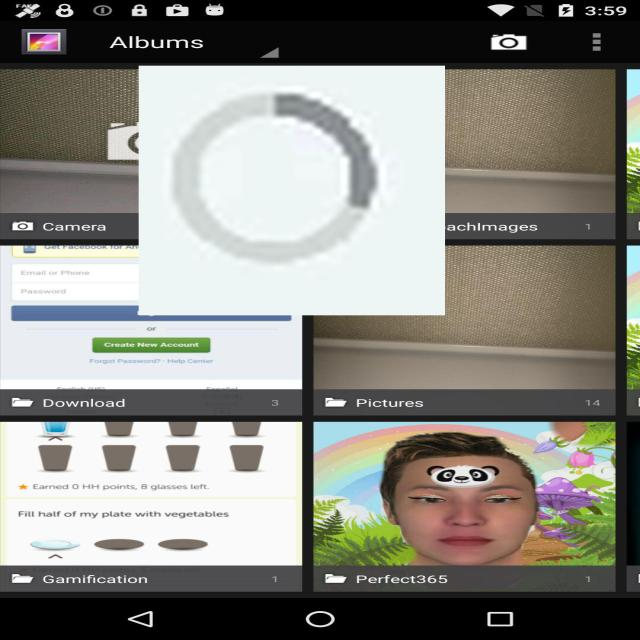misdirection: (139, 66, 445, 315)
